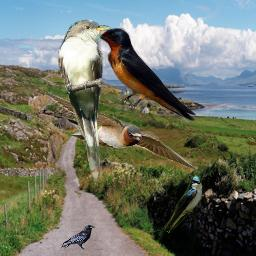Crow: (60, 224, 95, 251)
Cuckoo: (58, 19, 111, 183)
Swallow: (42, 89, 199, 170), (93, 28, 196, 123), (164, 175, 203, 235)
